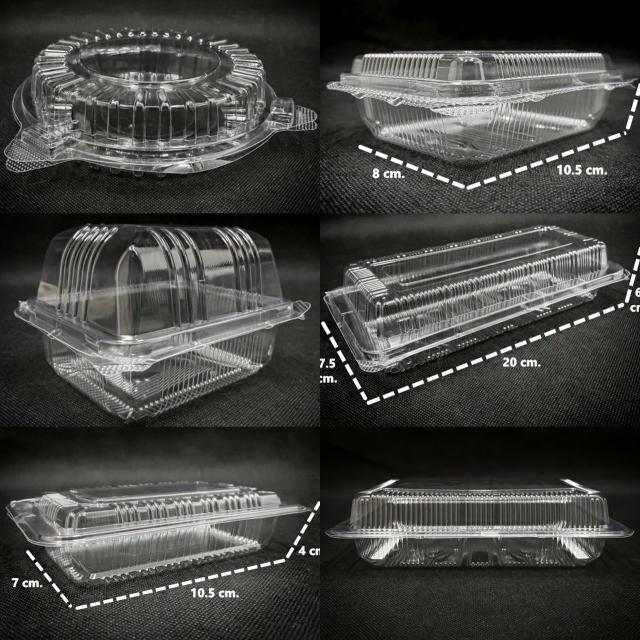Single-Use-Plastic: (15, 224, 310, 420), (5, 29, 316, 174), (324, 226, 627, 372), (327, 51, 632, 161), (8, 481, 306, 584), (327, 479, 633, 567)
